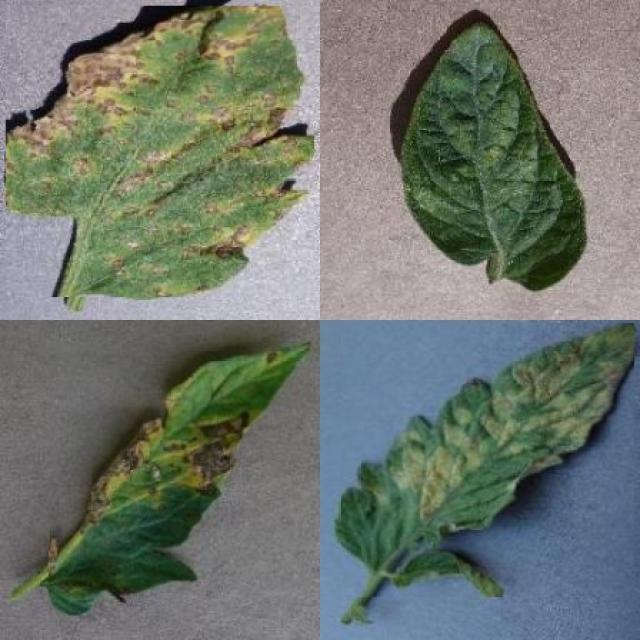Early Blight: (49, 342, 310, 618)
Leaf Mold: (340, 323, 634, 597)
Septoria: (6, 6, 315, 298)
Spider Mites: (399, 22, 587, 292)
